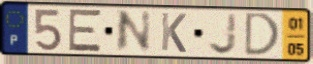5: (33, 7, 64, 53)
D: (243, 11, 282, 58)
E: (66, 8, 104, 54)
J: (207, 12, 238, 56)
K: (160, 11, 188, 54)
N: (113, 9, 152, 55)
